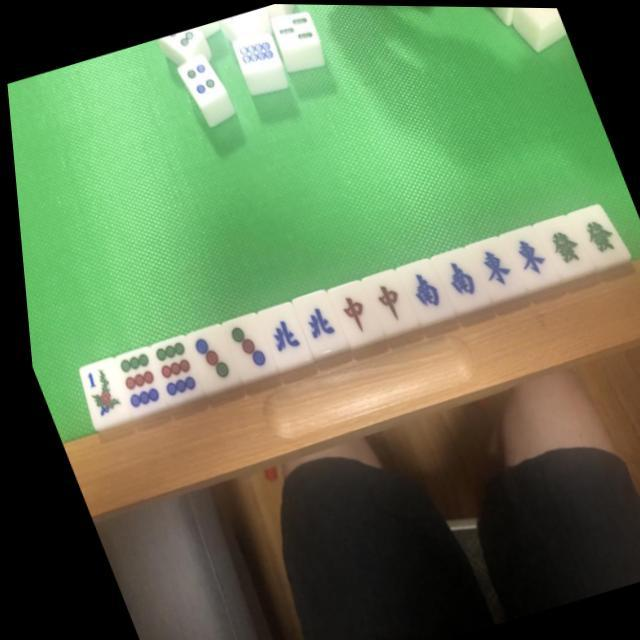bf1: (68, 357, 120, 423)
hdg: (534, 216, 583, 272), (571, 203, 618, 261)
hdr: (360, 272, 406, 326), (326, 284, 370, 336)
hwe: (466, 238, 512, 292), (503, 227, 547, 279)
hwn: (254, 305, 301, 362), (289, 294, 337, 348)
hws: (433, 249, 476, 302), (398, 262, 442, 312)
sd3: (180, 326, 230, 388), (217, 317, 266, 373)
sd9: (104, 346, 160, 412), (142, 335, 195, 399)
